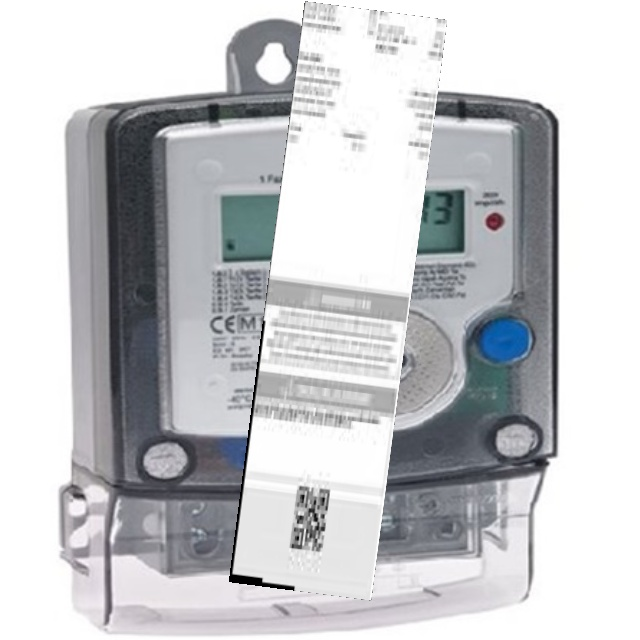electricity-bill: (229, 0, 447, 600)
